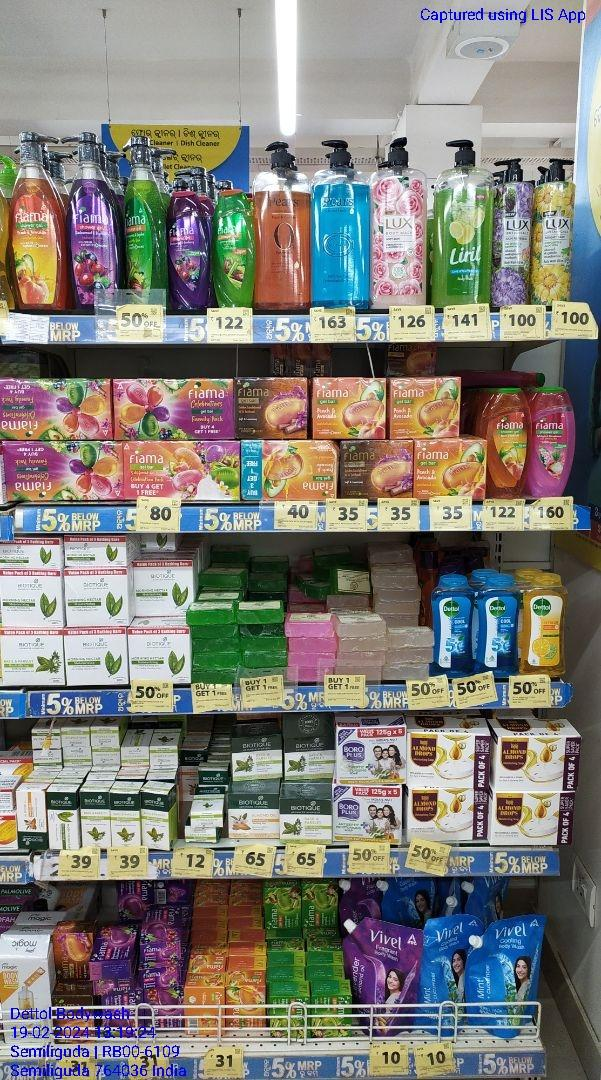Dettol_Bodywash_Cool: (477, 576, 523, 682), (437, 575, 475, 679)
Dettol_Bodywash_Refresh: (523, 576, 565, 677)
Fiama_Shower_Gel_Lemongrass_and_Jojoba_250ML: (212, 189, 252, 308)
Fiama_Shower_Gel_Patchouli_and_Macadamia_250ML: (529, 387, 573, 502)
Fiama_Shower_Gel_Peach_and_Avocado_250ML: (488, 387, 529, 499)
